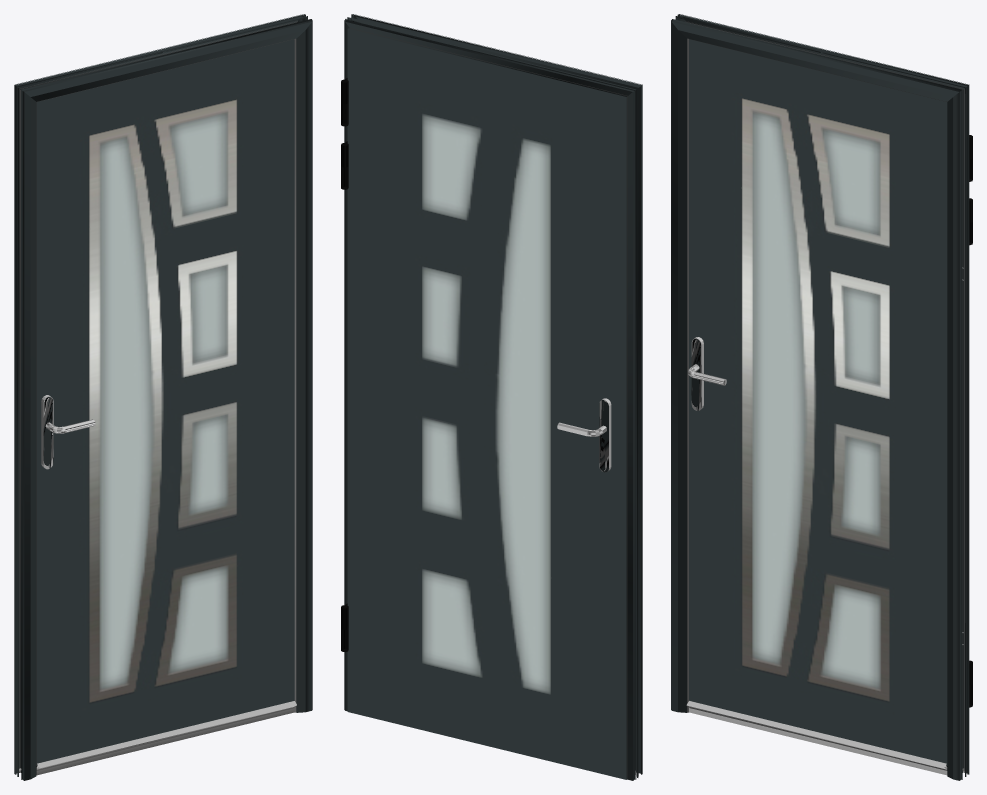
3 renders of one model, left to right at view 1: azimuth 30°, elevation 25°; view 2: azimuth 150°, elevation 25°; view 3: azimuth 330°, elevation 25°, orthographic.
Visible parts, largest first — view 1: ouvrant, 50, puxador; view 2: ouvrant, 50, puxador; view 3: ouvrant, 50, puxador.
Boxes of the visible parts, x1=… form: ouvrant: x1=19, y1=21, x2=297, y2=770; 50: x1=14, y1=14, x2=312, y2=780; puxador: x1=41, y1=395, x2=53, y2=469; ouvrant: x1=341, y1=28, x2=627, y2=779; 50: x1=341, y1=14, x2=642, y2=780; puxador: x1=599, y1=398, x2=611, y2=472; ouvrant: x1=685, y1=21, x2=972, y2=770; 50: x1=671, y1=14, x2=972, y2=780; puxador: x1=691, y1=337, x2=703, y2=410.
Bounding box in the file's own units: 96 × 218 × 19.09.
Materials: 1 (1 with a texture image).
